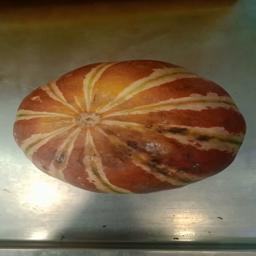Melon Semirotten: (10, 59, 251, 199)
